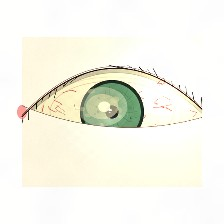corneal_ulcer: (76, 86, 129, 128)
